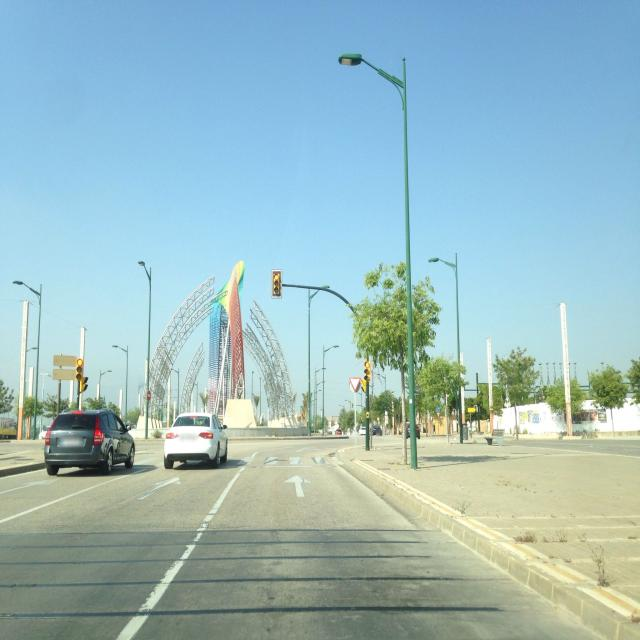car: (44, 407, 136, 476), (164, 412, 228, 469), (404, 422, 421, 439), (370, 424, 382, 436), (358, 426, 367, 435)
